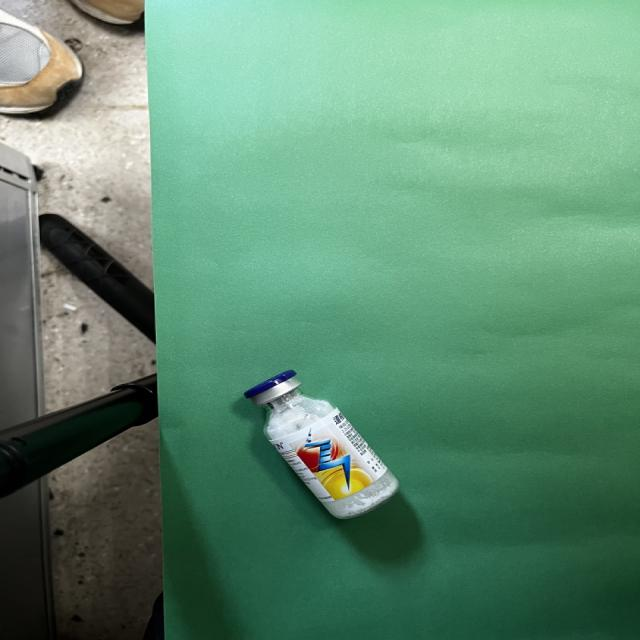Vials: (245, 370, 398, 519)
